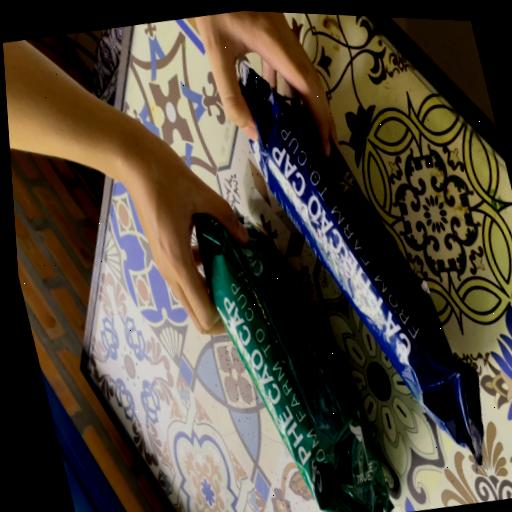cafe_hat: (236, 65, 483, 463)
cafe_xay: (194, 213, 392, 512)
